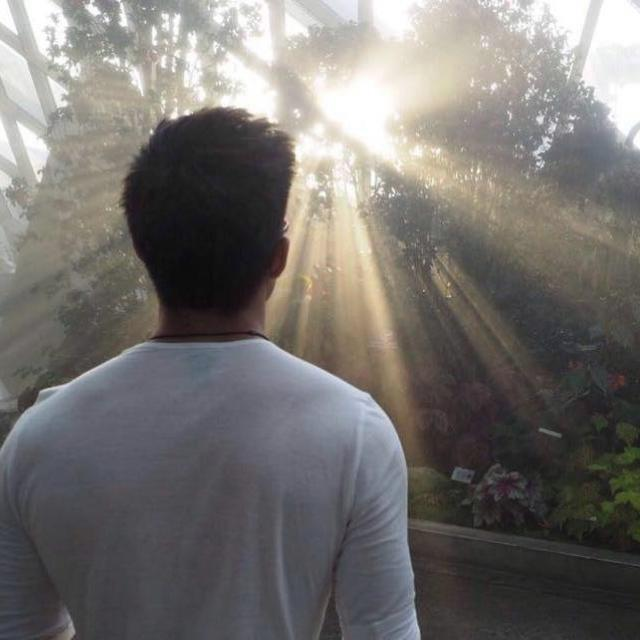adult: (0, 105, 422, 640)
